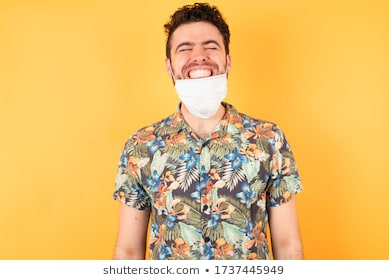mask_weared_incorrect: (172, 31, 227, 106)
